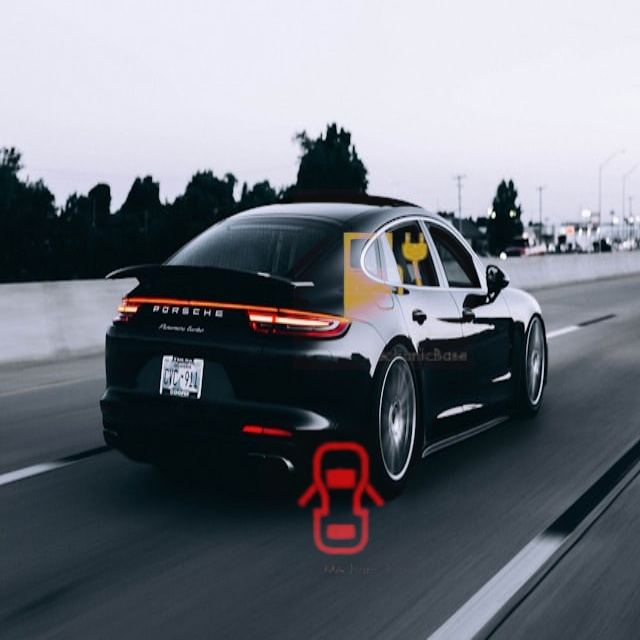symbol: (293, 189, 474, 370), (260, 421, 422, 583)
